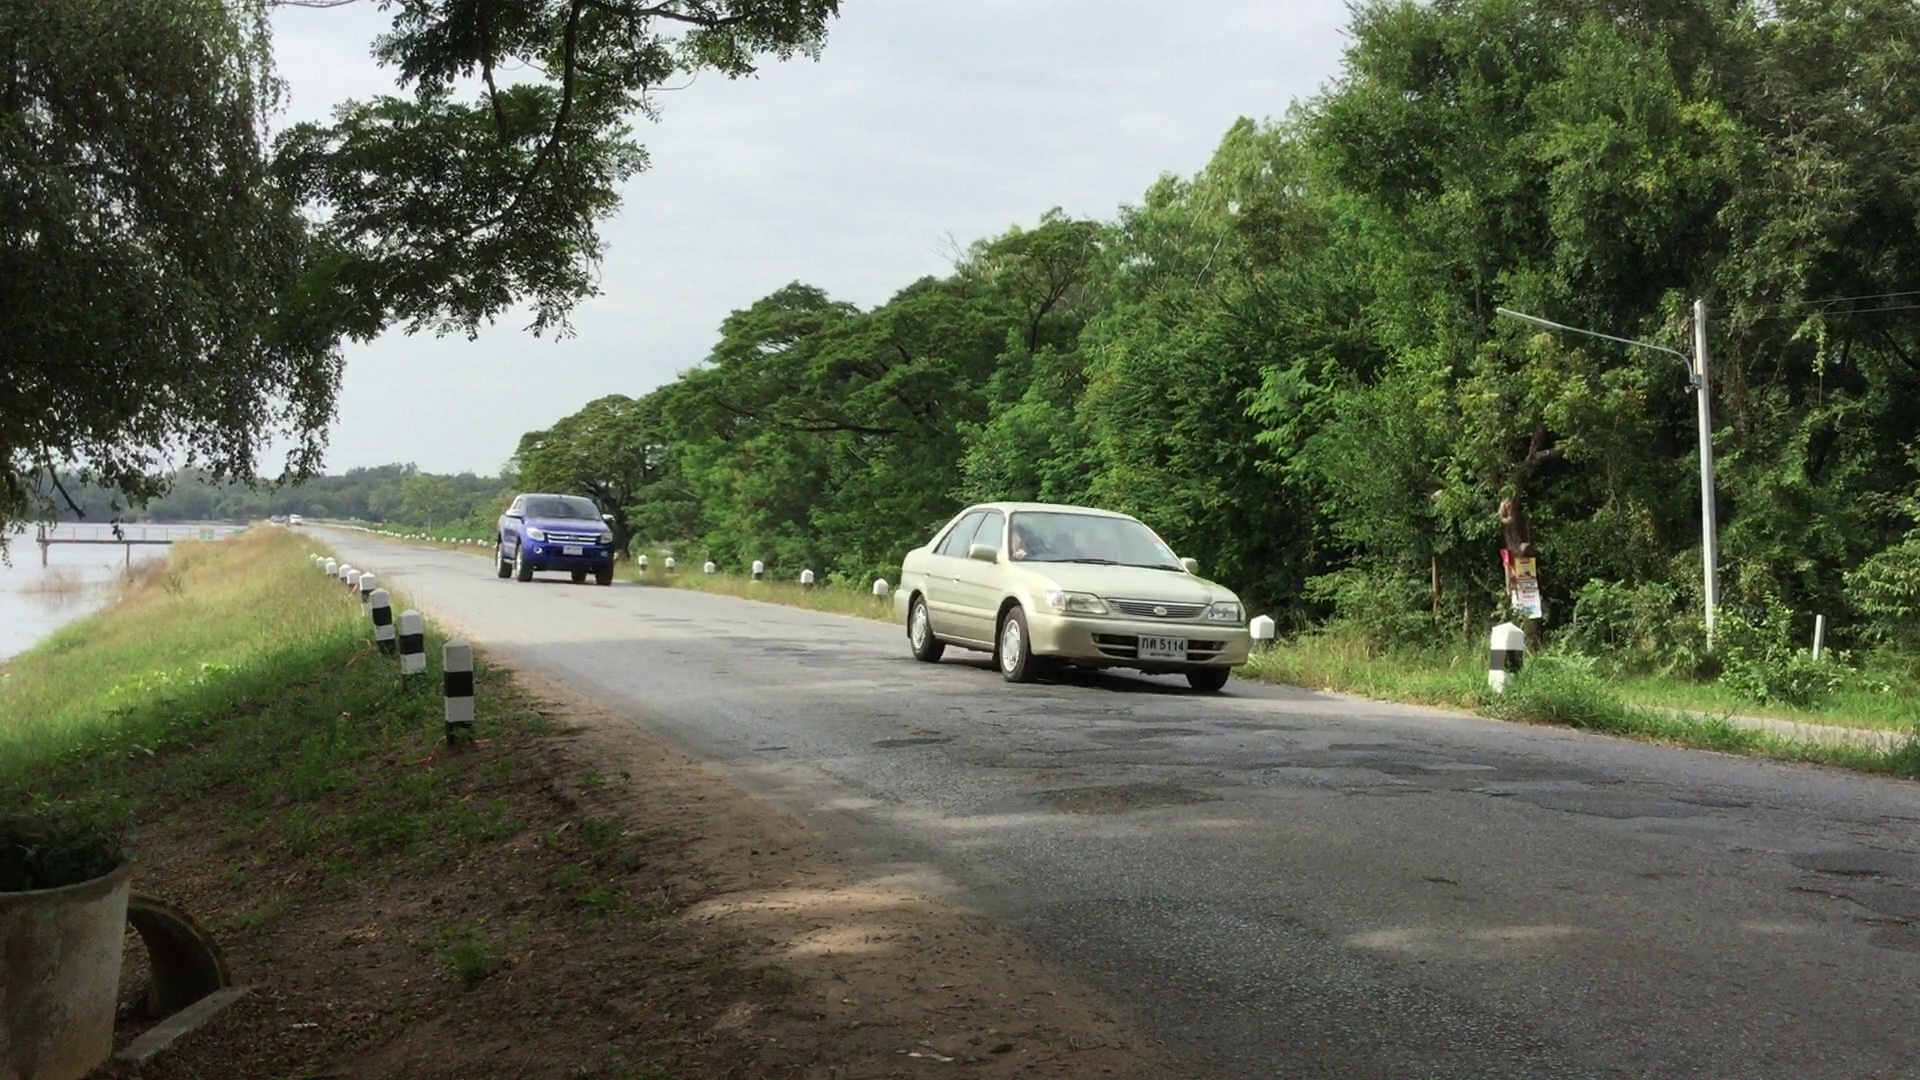car: (893, 496, 1255, 688), (489, 493, 616, 582)
